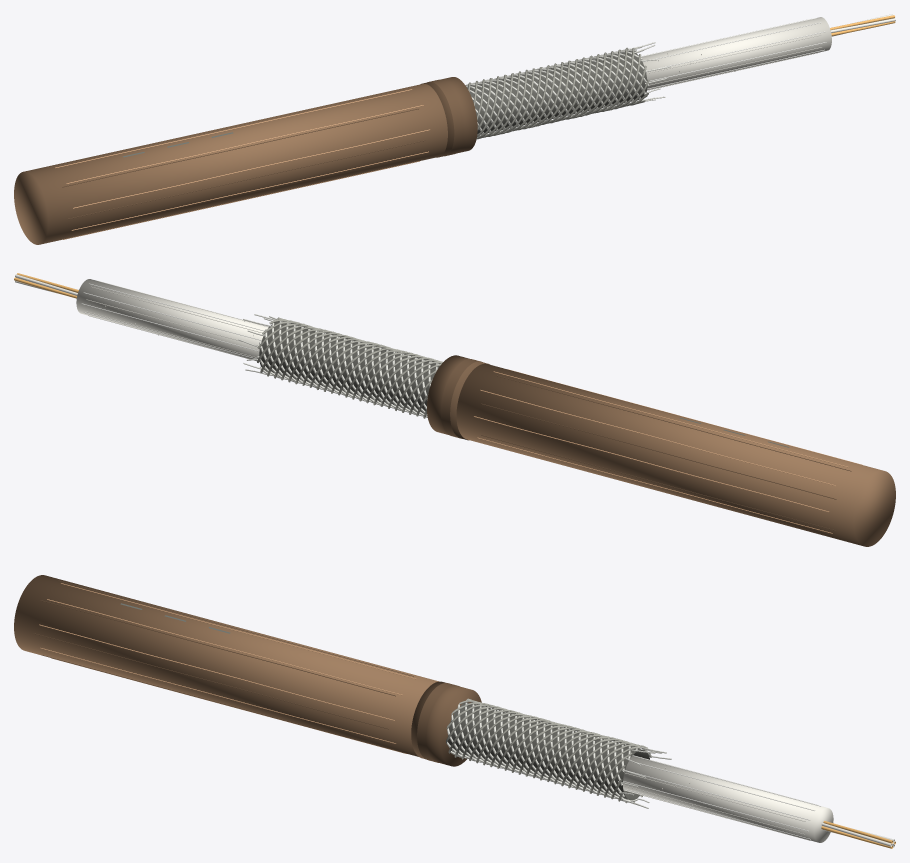
The model's file is rf-rg178-macro.glb.
The picture shows the model from 3 angles, top to bottom: view 1: azimuth 30°, elevation 25°; view 2: azimuth 150°, elevation 25°; view 3: azimuth 330°, elevation 25°; orthographic projection. The views are drawn at different scales.
Parts seen in each view (by area): view 1: macro jacket body, macro dielectric exposed core, shadow seen through braid windows, thick jacket cut wall, rounded jacket cut lip, jacket axial surface line 04, jacket axial surface line 05, jacket axial surface line 06, jacket axial surface line 03; view 2: macro jacket body, macro dielectric exposed core, shadow seen through braid windows, thick jacket cut wall, rounded jacket cut lip; view 3: macro jacket body, macro dielectric exposed core, shadow seen through braid windows, thick jacket cut wall, rounded jacket cut lip.
Part boxes in pixels (box(x1,y1,x2,y2)): macro jacket body: box(14, 83, 447, 244); macro dielectric exposed core: box(641, 17, 831, 90); shadow seen through braid windows: box(467, 51, 647, 134); thick jacket cut wall: box(421, 77, 477, 157); rounded jacket cut lip: box(428, 79, 463, 156); jacket axial surface line 04: box(66, 105, 423, 183); jacket axial surface line 05: box(73, 129, 429, 208); jacket axial surface line 06: box(71, 151, 428, 230); jacket axial surface line 03: box(55, 89, 411, 168); macro jacket body: box(456, 363, 895, 546); macro dielectric exposed core: box(76, 279, 268, 360); shadow seen through braid windows: box(259, 321, 439, 413); thick jacket cut wall: box(427, 355, 489, 440); rounded jacket cut lip: box(440, 359, 482, 438); macro jacket body: box(14, 575, 438, 756); macro dielectric exposed core: box(623, 756, 833, 842); shadow seen through braid windows: box(448, 703, 649, 800); thick jacket cut wall: box(411, 681, 481, 766); rounded jacket cut lip: box(417, 683, 459, 762).
Bounding box in the file's own units: 6.43 × 0.503 × 0.6407.
